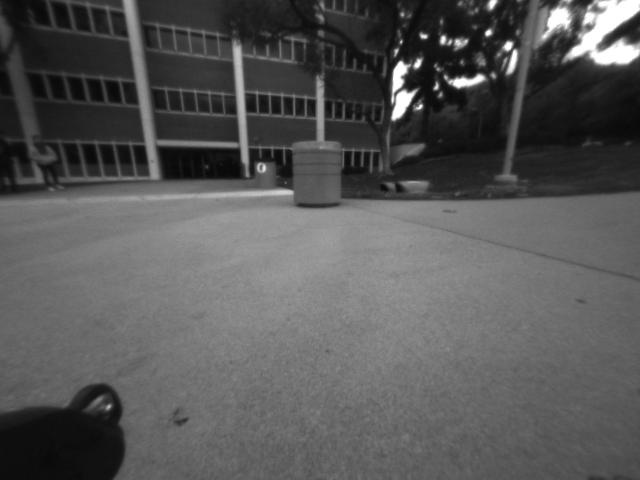trashcan: (289, 139, 345, 209), (251, 151, 280, 192)
